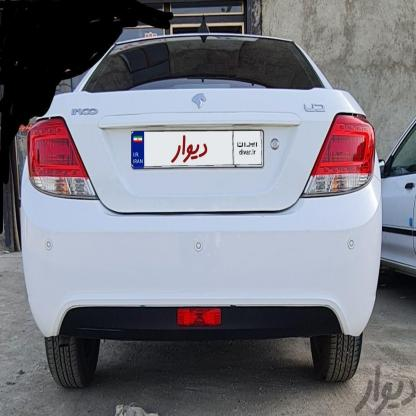Car: (17, 32, 386, 414), (379, 96, 416, 284)
